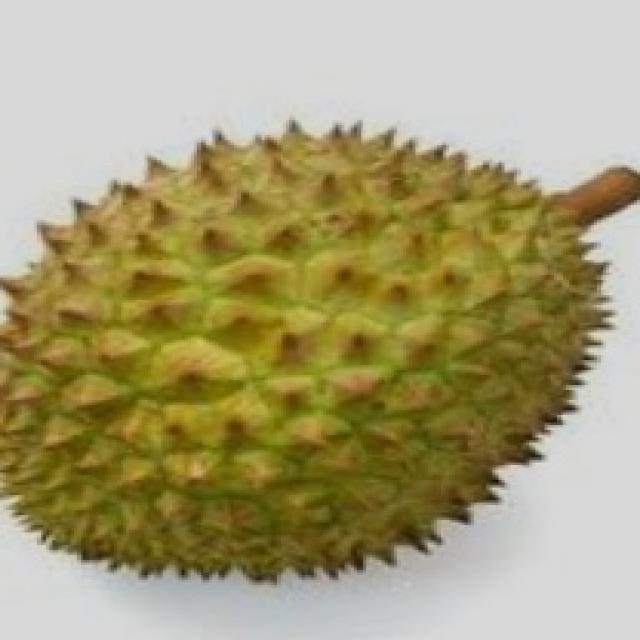fruit: (0, 240, 369, 635)
